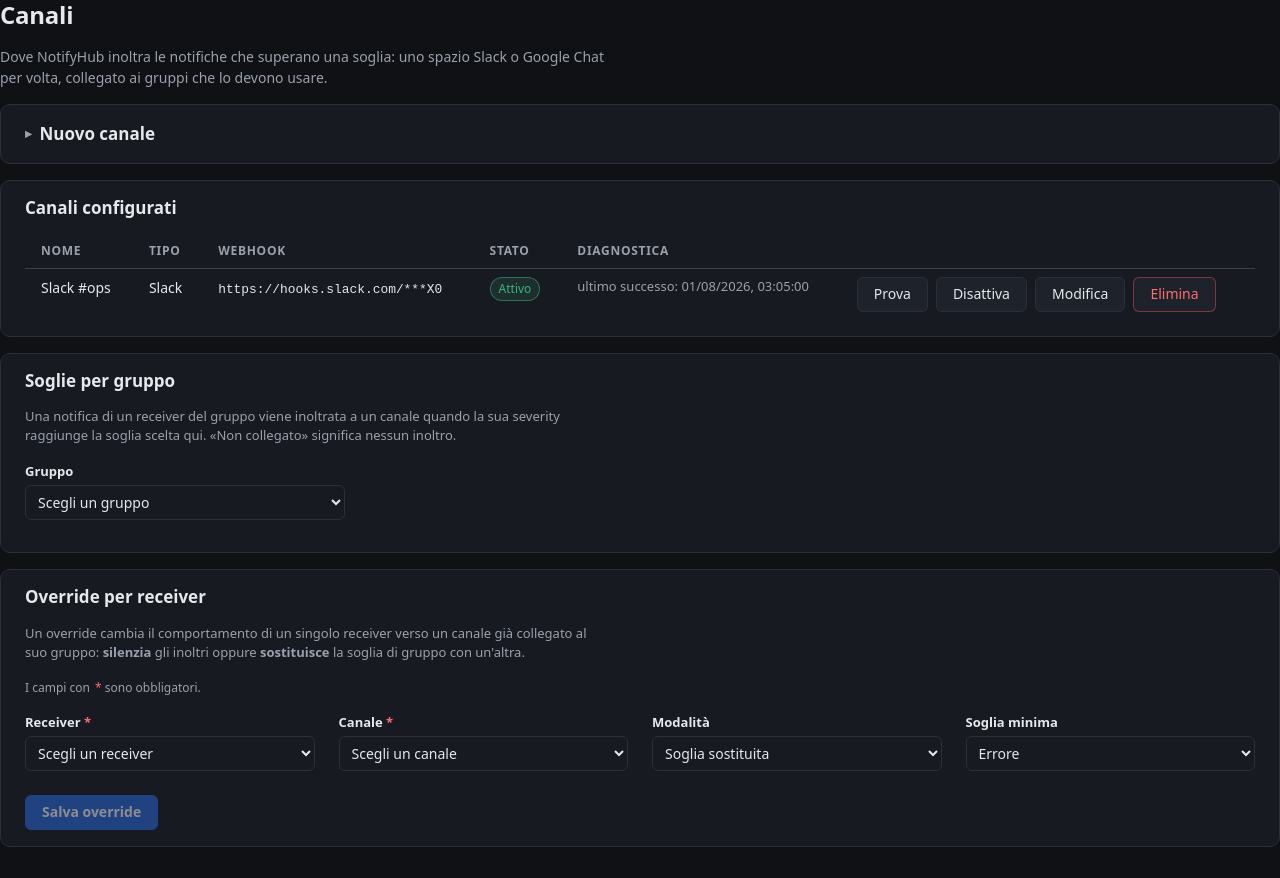
Test: ChannelsPage override › T-CH3 cambiando gruppo lo stato della riga salvata non passa al gruppo nuovo
The image size is (1280, 878).
Select "Server Produzione" in the dropdown labelled "Gruppo" at (185, 503), box [25,485,345,520]
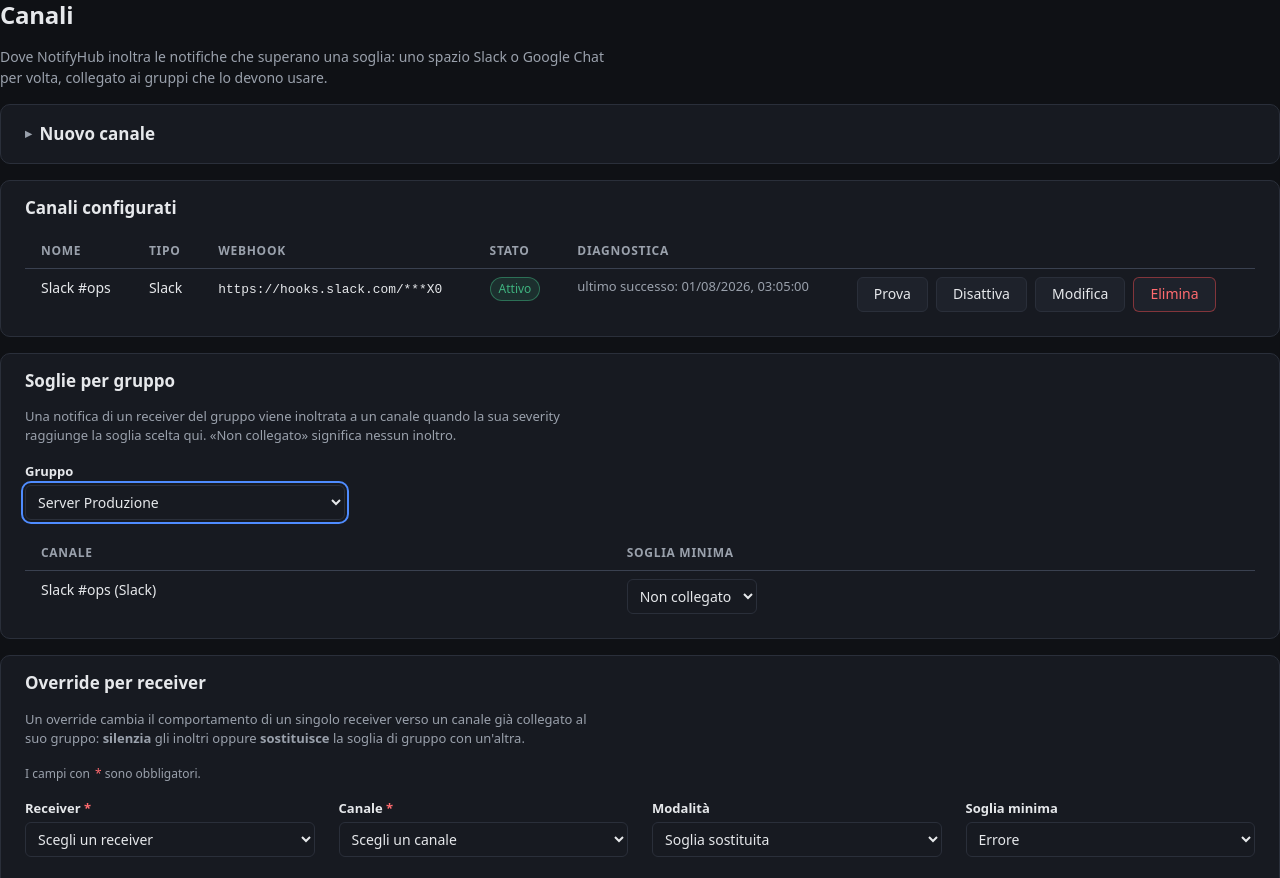
Select "Errore" in the dropdown named "Soglia di Slack #ops" at (692, 597), box [627,579,757,614]
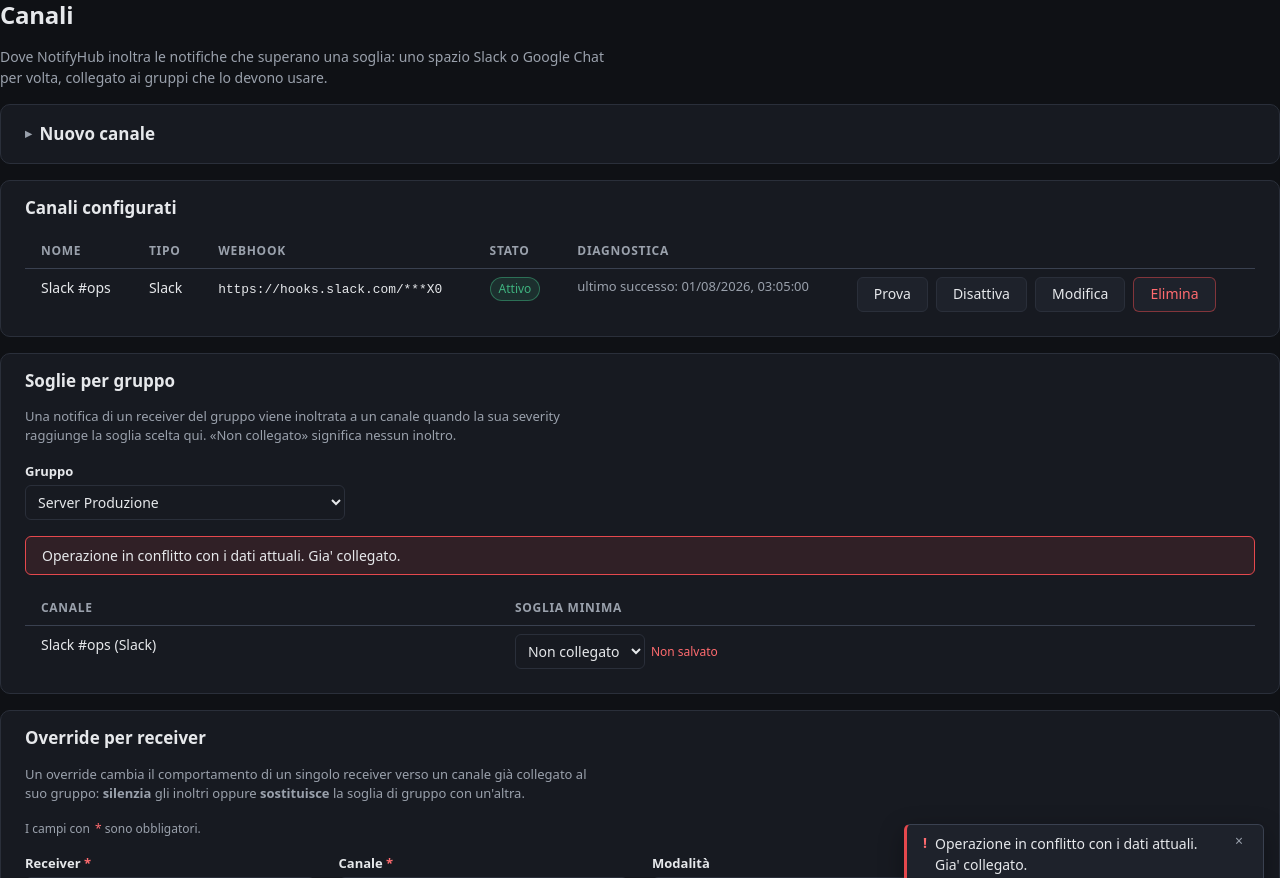
expect the text "Non salvato" is shown: met, box [651,643,718,661]
Select "Backup" in the dropdown labelled "Gruppo" at (185, 503), box [25,485,345,520]
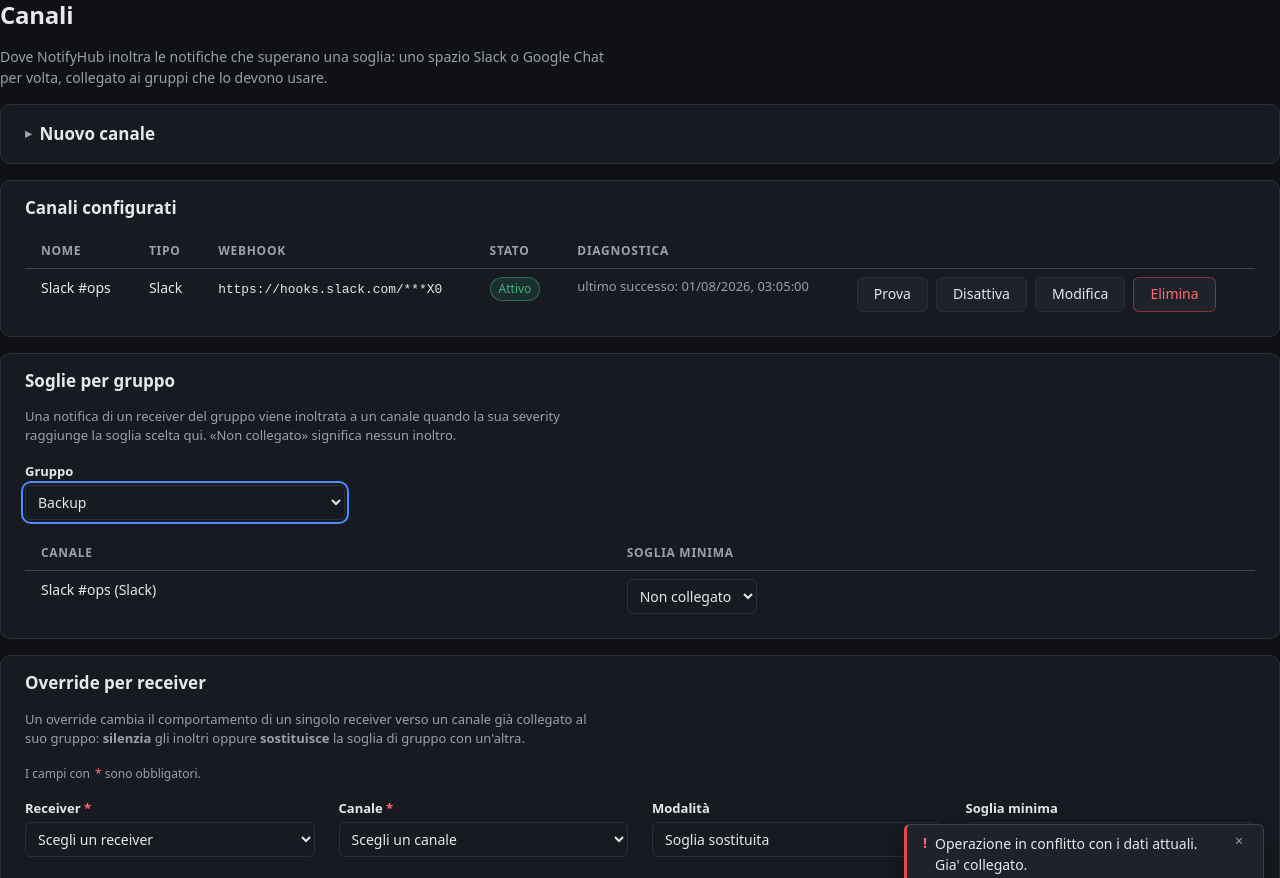
expect the dropdown named "Soglia di Slack #ops" shows "Non collegato": met, box [627,579,757,614]
expect the text "Non salvato" is gone: met
